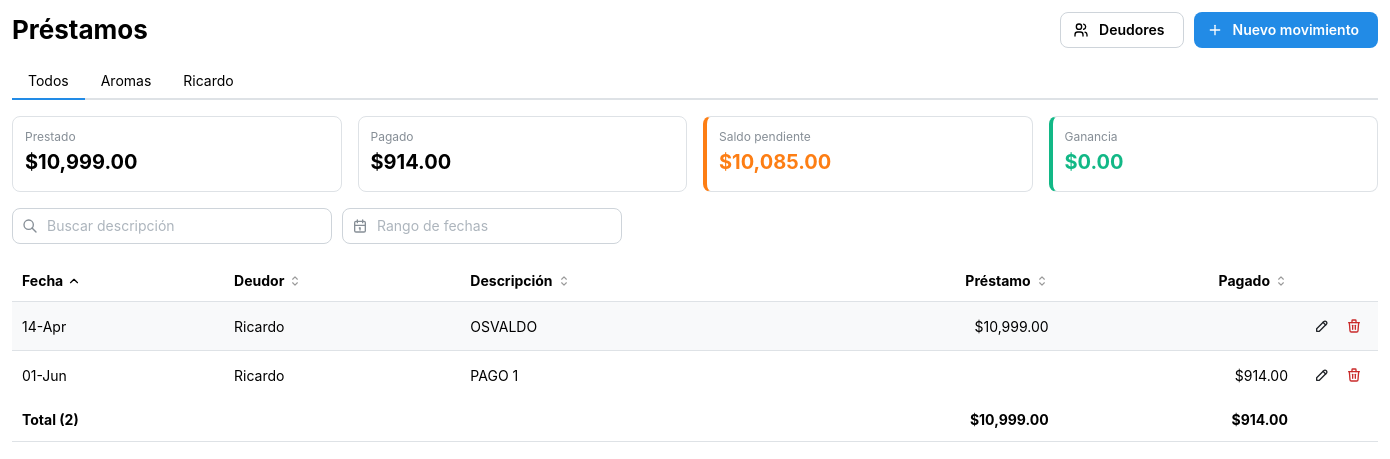
pages render with data › LoansPage shows borrower tabs, ledger rows and the summary header
The image size is (1390, 459).
Expected: the text "OSVALDO" is shown, x1=460 y1=302 x2=782 y2=351
Expected: the text "14-Apr" is shown, x1=12 y1=302 x2=224 y2=351
Click the tab "Ricardo" at (208, 82), box x1=167 y1=64 x2=250 y2=100
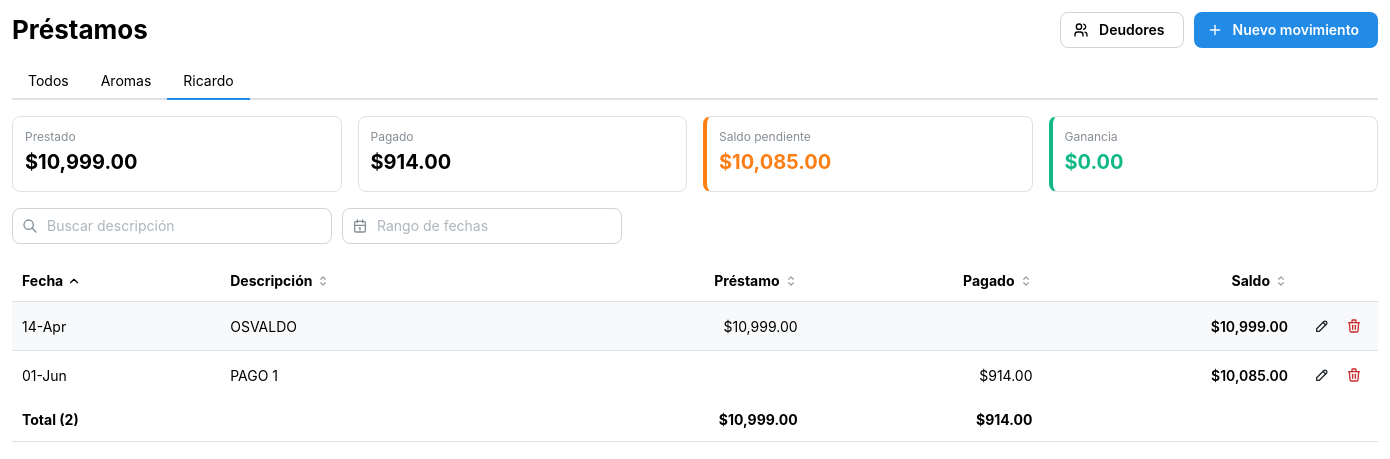
Result: the column heading "Saldo" is shown at x1=1042 y1=260 x2=1298 y2=302
